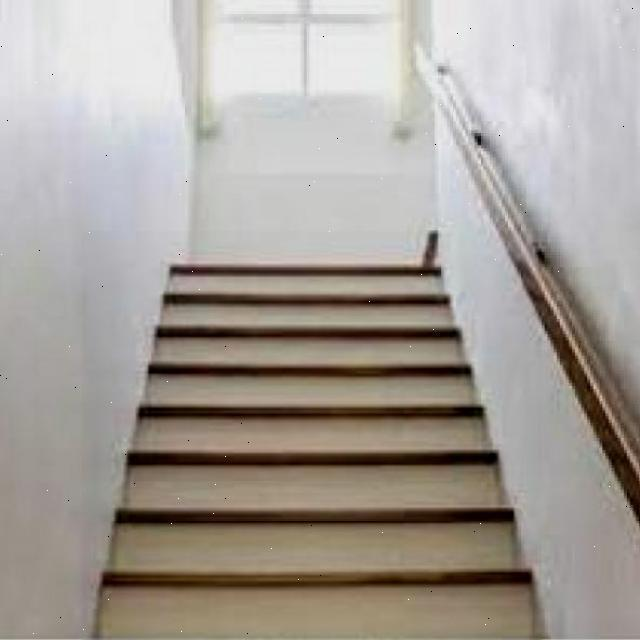stair: (82, 231, 542, 640)
